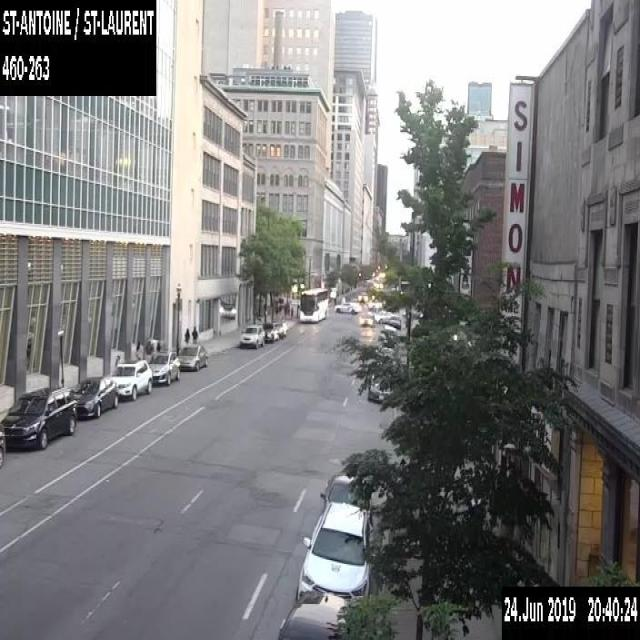bus: (298, 286, 328, 321)
pedestrian: (144, 340, 154, 362), (136, 338, 143, 358), (191, 325, 197, 343), (184, 327, 189, 342), (115, 353, 120, 367), (156, 341, 160, 351)
vehicle: (294, 500, 370, 606), (0, 385, 76, 450), (278, 588, 350, 638), (318, 470, 372, 522), (74, 375, 118, 417), (109, 359, 151, 400), (148, 350, 180, 384), (176, 343, 209, 370), (366, 372, 394, 403), (238, 324, 264, 348), (377, 323, 397, 342), (261, 321, 278, 342), (334, 301, 361, 313), (271, 318, 287, 338), (0, 421, 5, 468), (375, 310, 393, 323), (377, 346, 393, 360), (388, 313, 400, 328), (360, 313, 372, 324), (368, 298, 381, 308), (358, 291, 368, 301), (376, 280, 382, 288)
